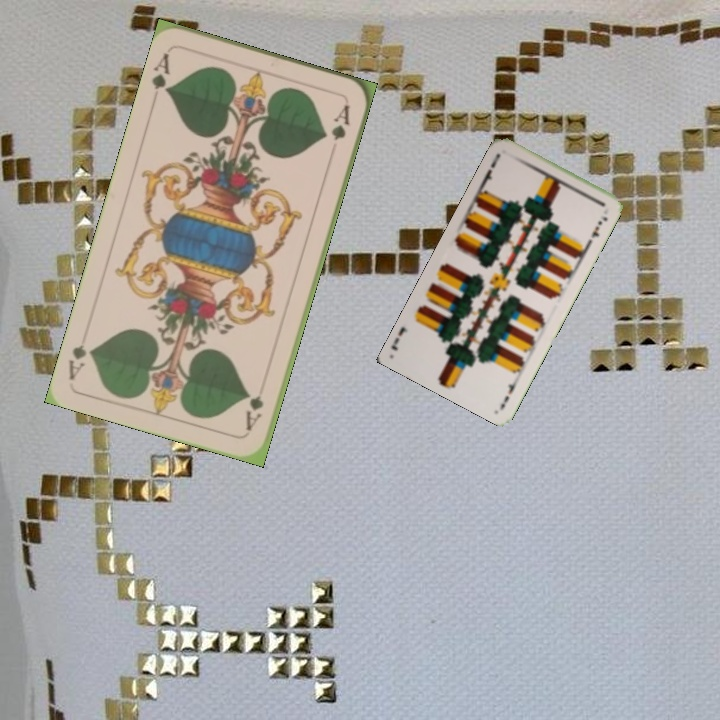E7: (478, 149, 503, 187), (497, 372, 522, 410)
GA: (147, 48, 174, 97), (241, 391, 266, 434)
